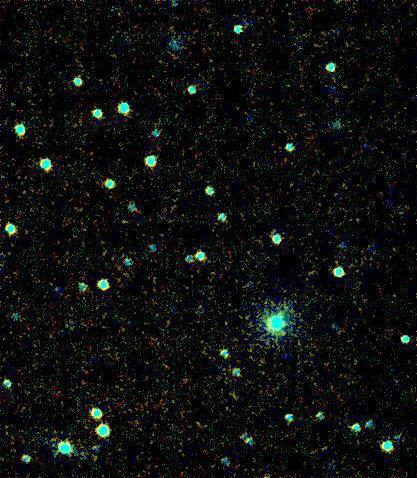star: (270, 320, 300, 350)
